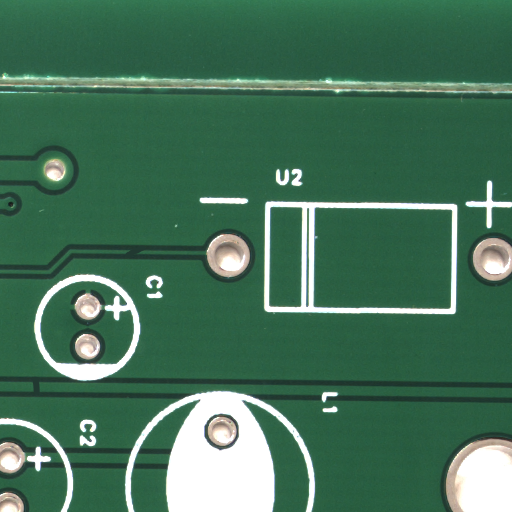Open_circuit: (135, 249, 153, 258), (36, 387, 43, 397)
